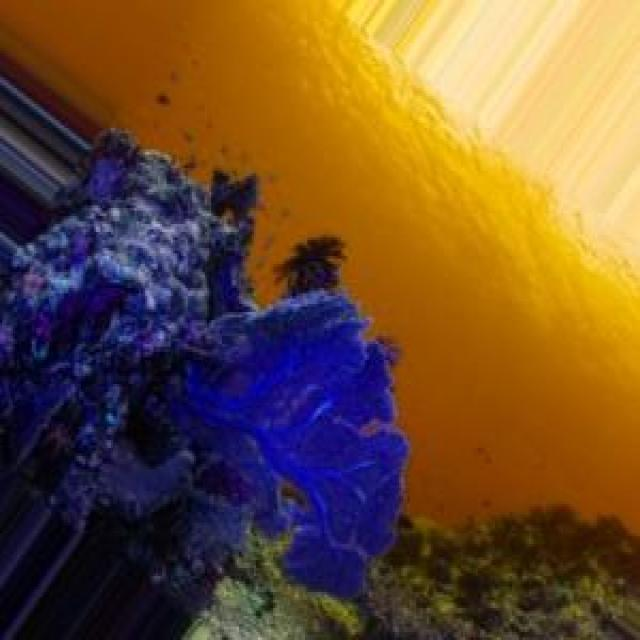Healthy: (1, 134, 411, 636), (172, 289, 411, 604)
